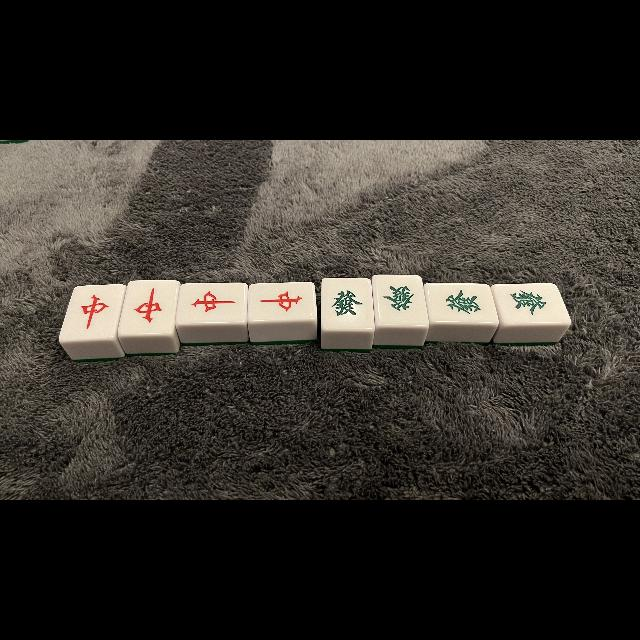dg: (428, 284, 494, 322), (498, 284, 564, 322), (376, 275, 424, 327), (323, 278, 372, 328)
dr: (123, 281, 173, 333), (179, 284, 245, 322), (67, 286, 116, 336), (251, 283, 315, 319)
